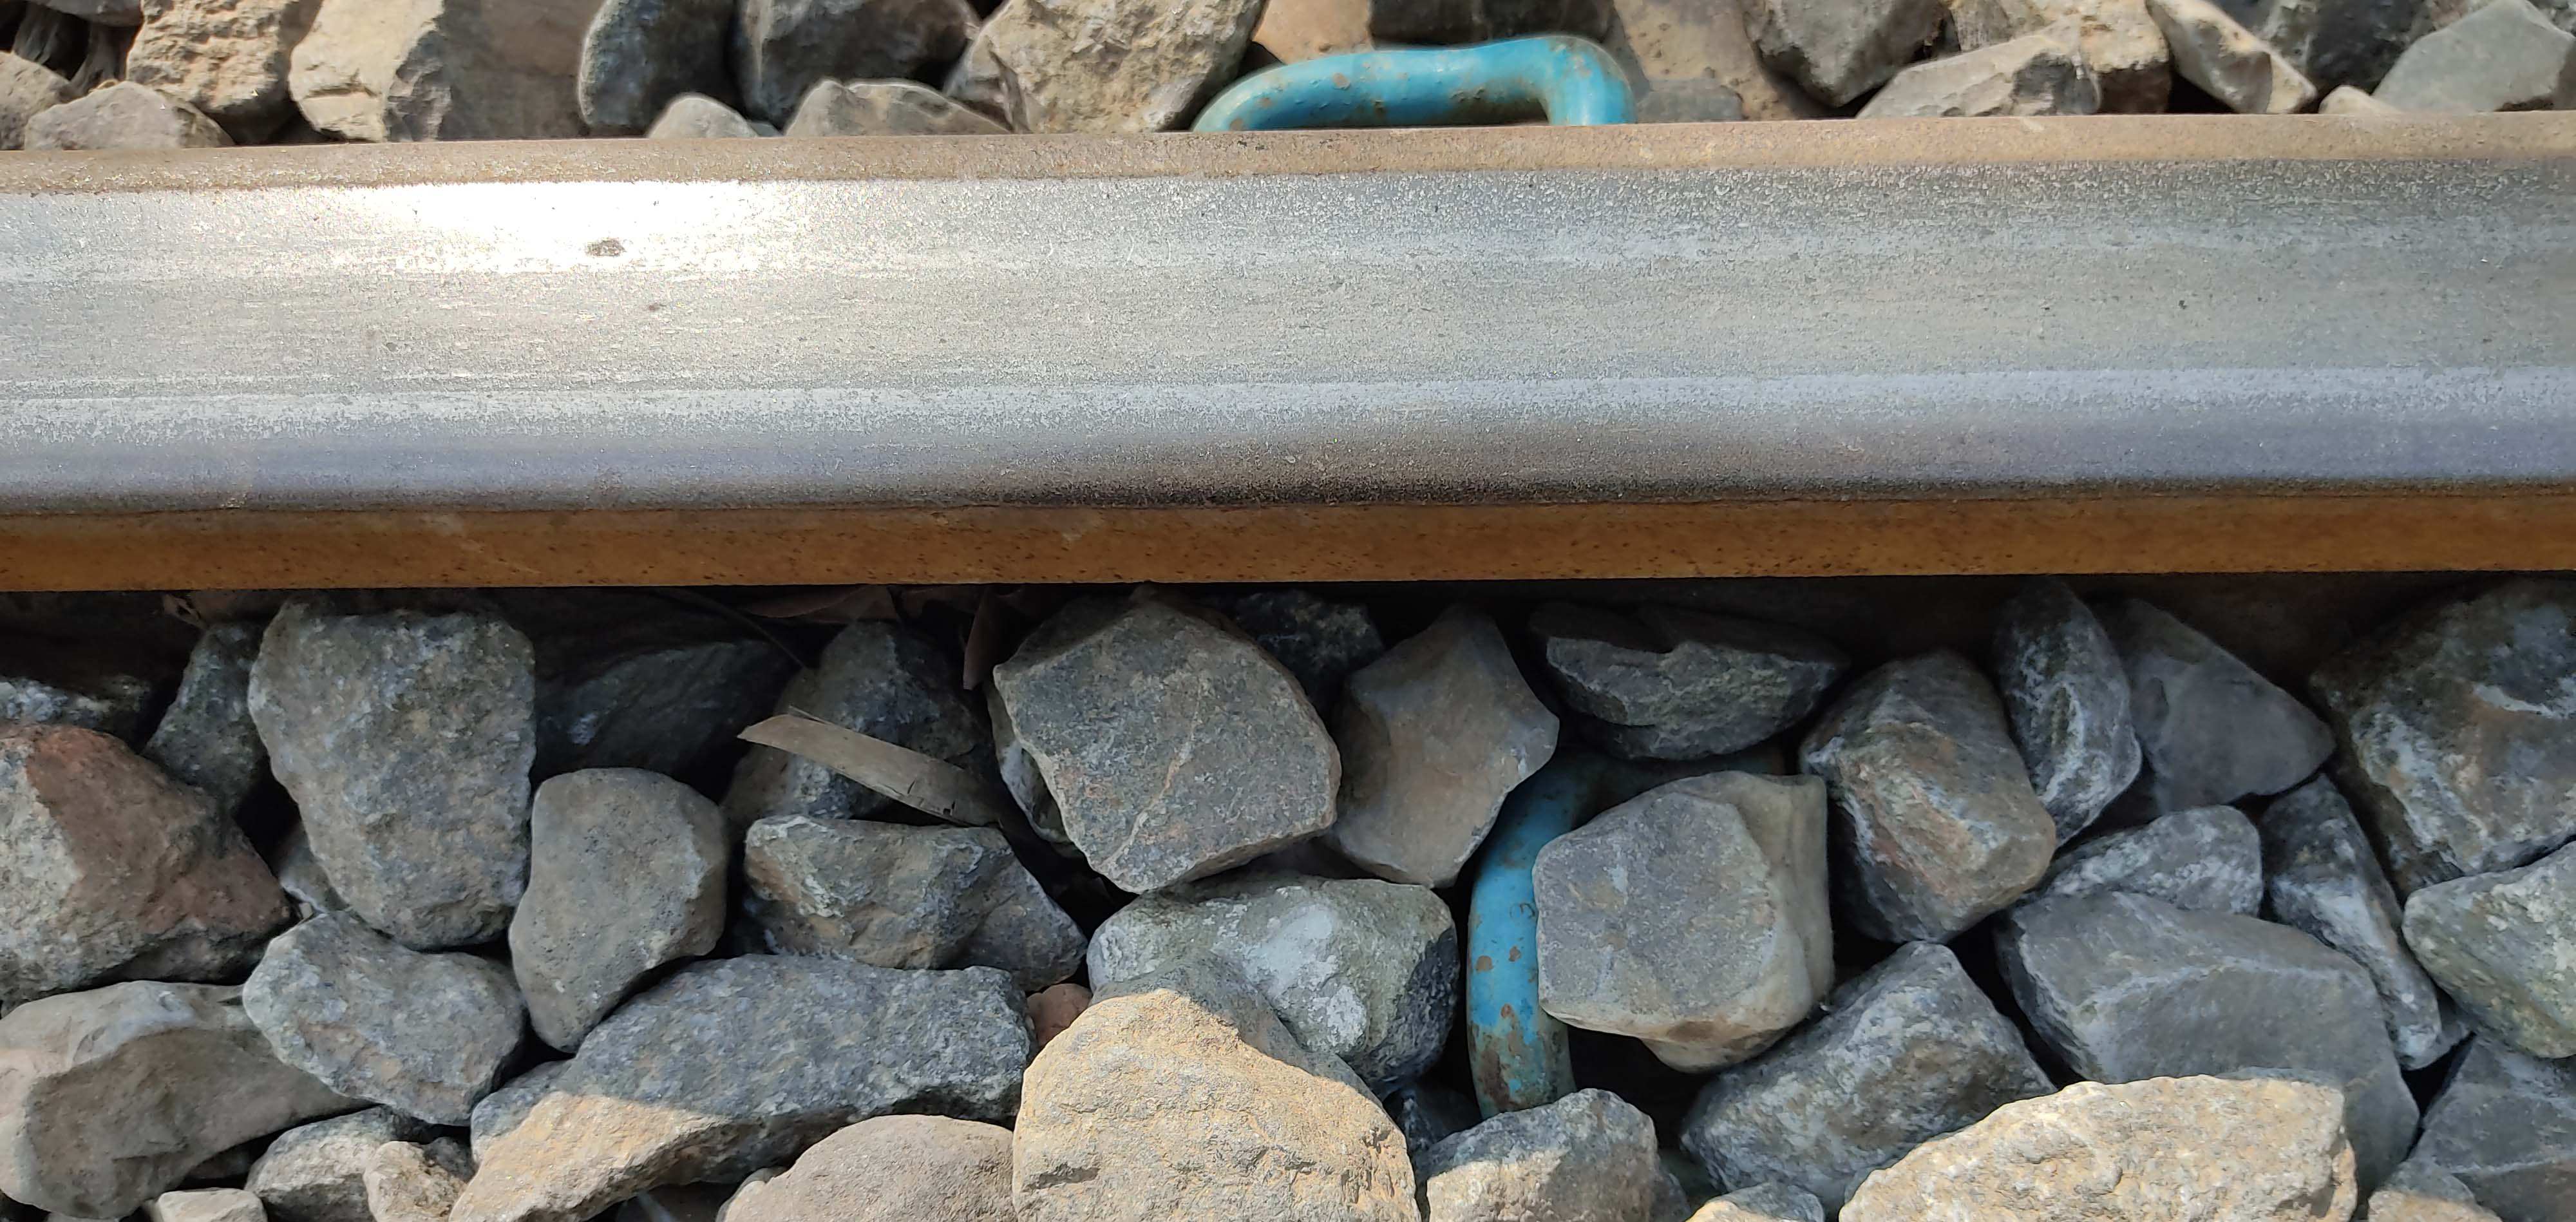error1: (1160, 13, 1666, 186)
